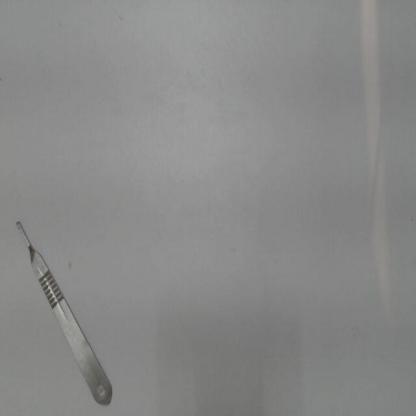No.3 BP Handle: (6, 197, 118, 411)
